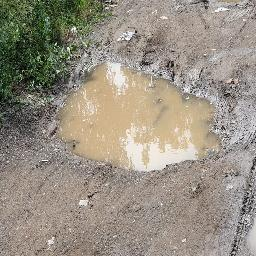water accumulation: (55, 61, 225, 171)
